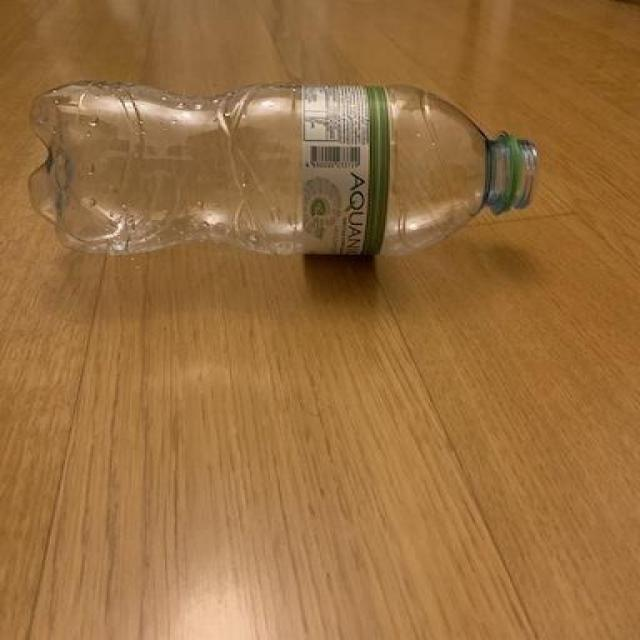plastic bottle: (27, 79, 543, 262)
